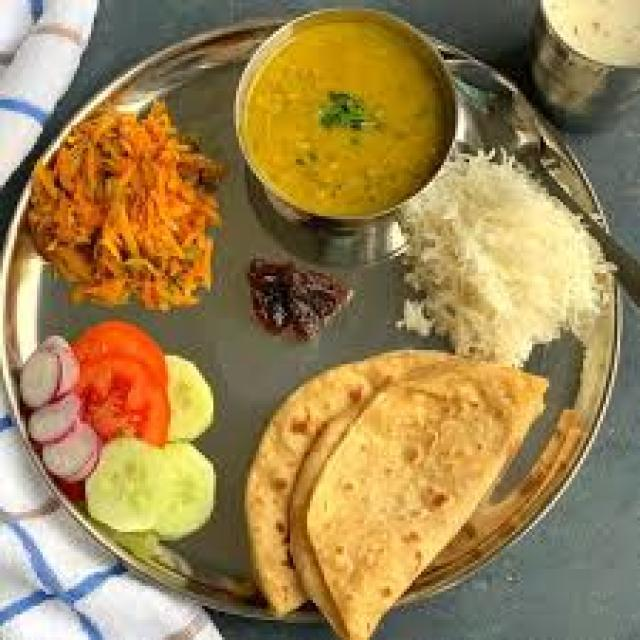dal: (235, 18, 451, 220)
pickle: (237, 248, 370, 341)
rice: (404, 130, 625, 352)
roti: (266, 360, 496, 605)
veg-fry: (27, 106, 222, 317)
